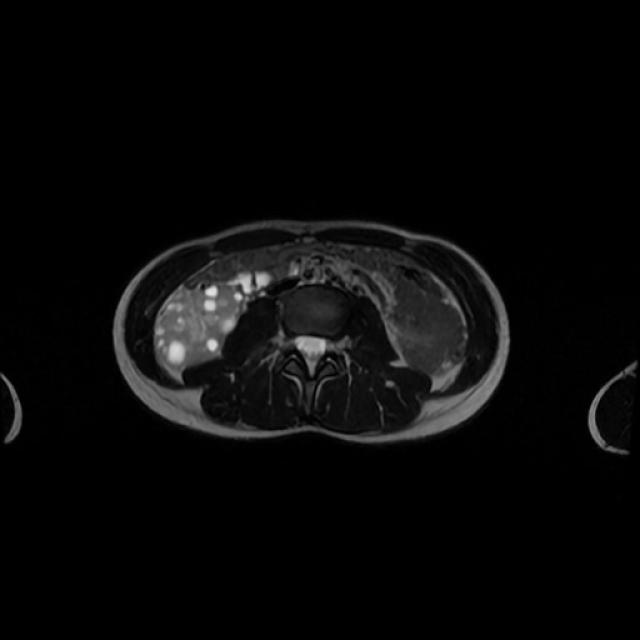sag: (161, 283, 247, 366)
